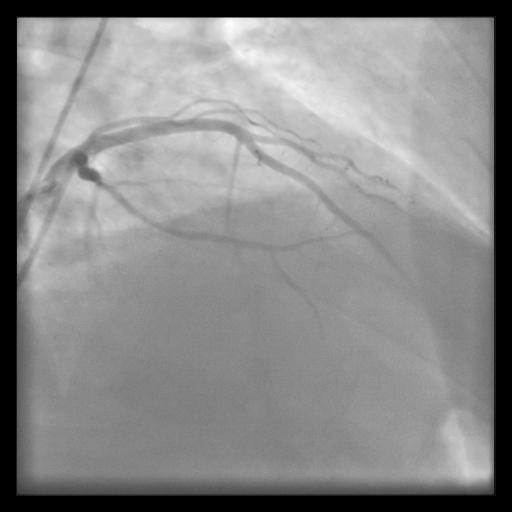Stenosis: (89, 171, 115, 196)
